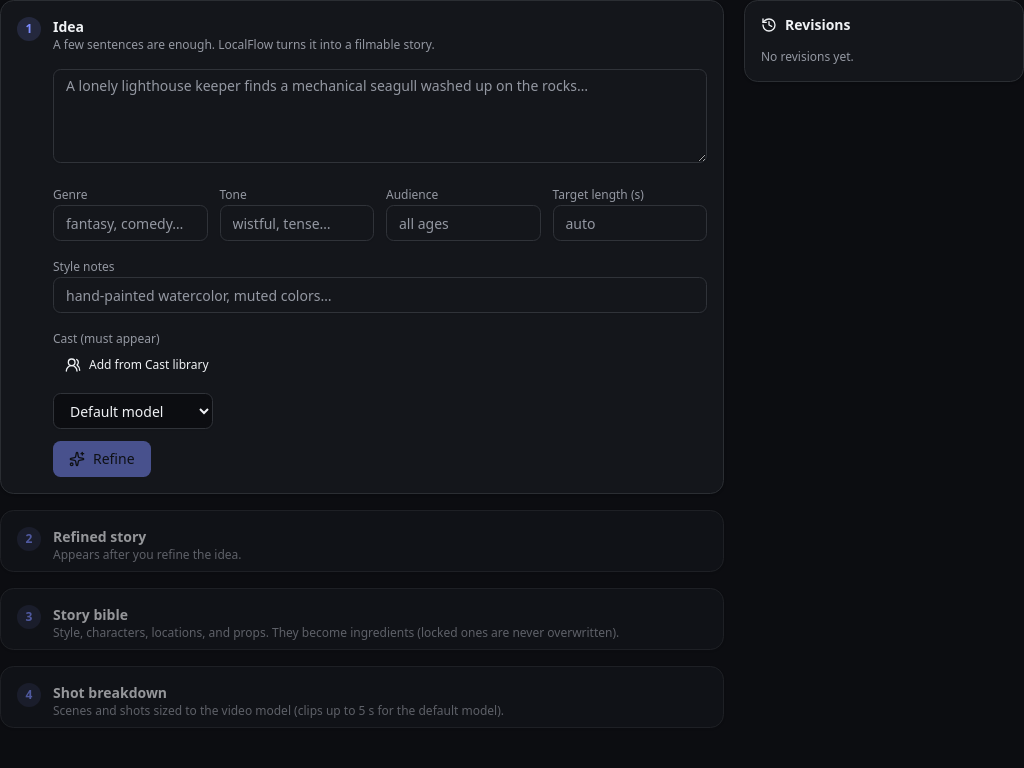
Test: Story tab refines the idea with the options
The width and height of the screenshot is (1024, 768).
Expected: the button with test id "run-refine" is disabled, [53,441,151,477]
Type "A kite that won't come down." into the text box named "Story idea".
click(380, 116); type("A kite that won't come down.")  # box [53,69,707,163]
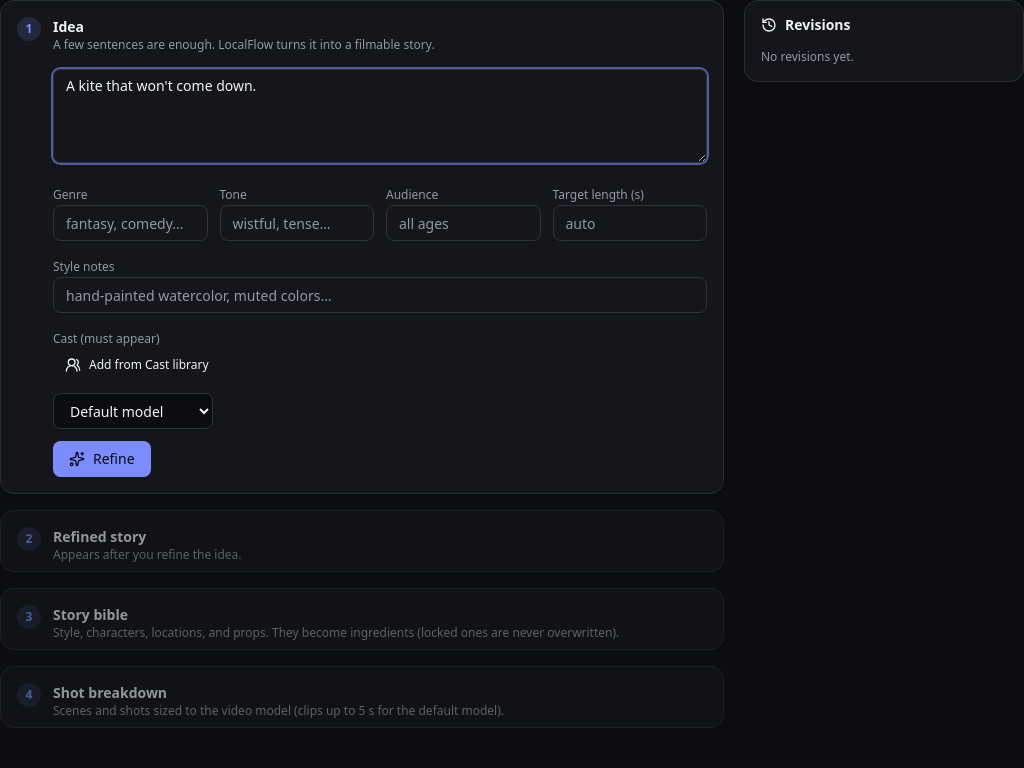
Type "30" into the number field labelled "Target length (s)".
click(630, 223); type("30")  # box [552,205,707,241]
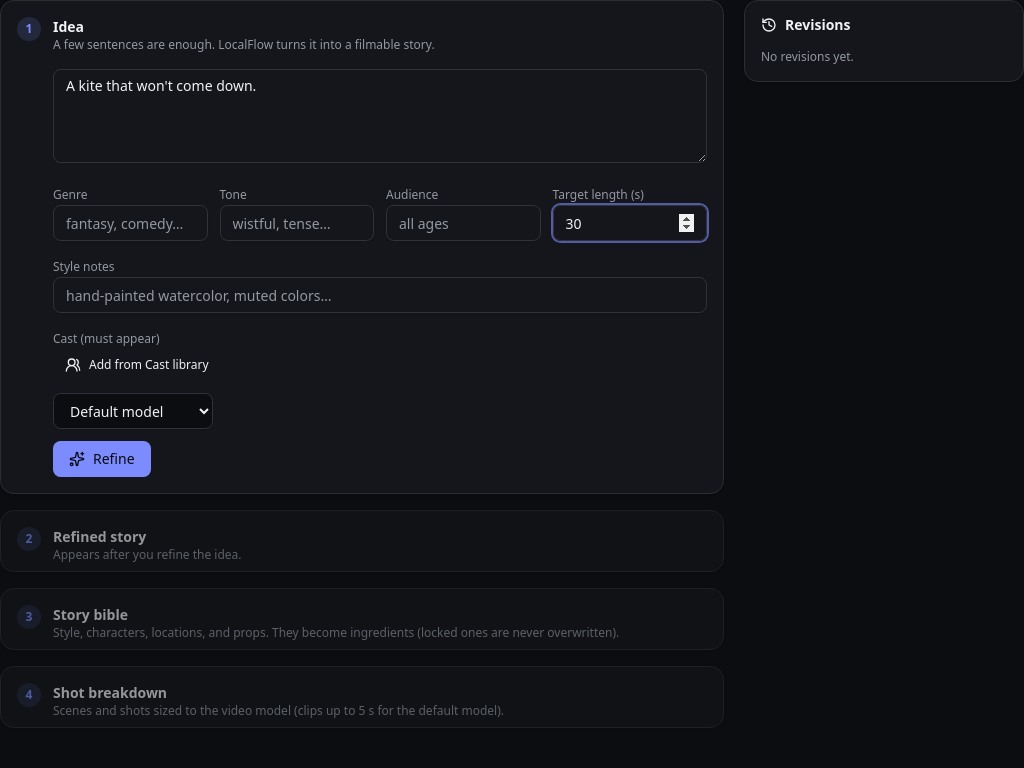
Type "wistful" into the field labelled "Tone".
click(297, 223); type("wistful")  # box [220,205,374,241]
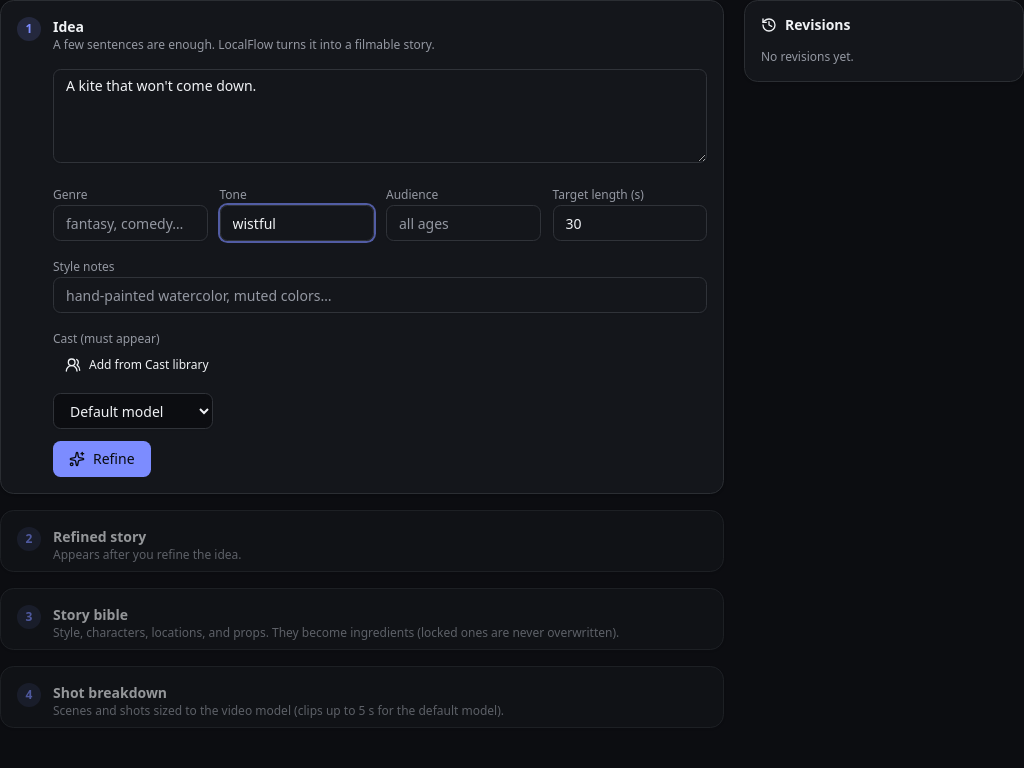
Click the button with test id "run-refine".
click(102, 459)  # box [53,441,151,477]
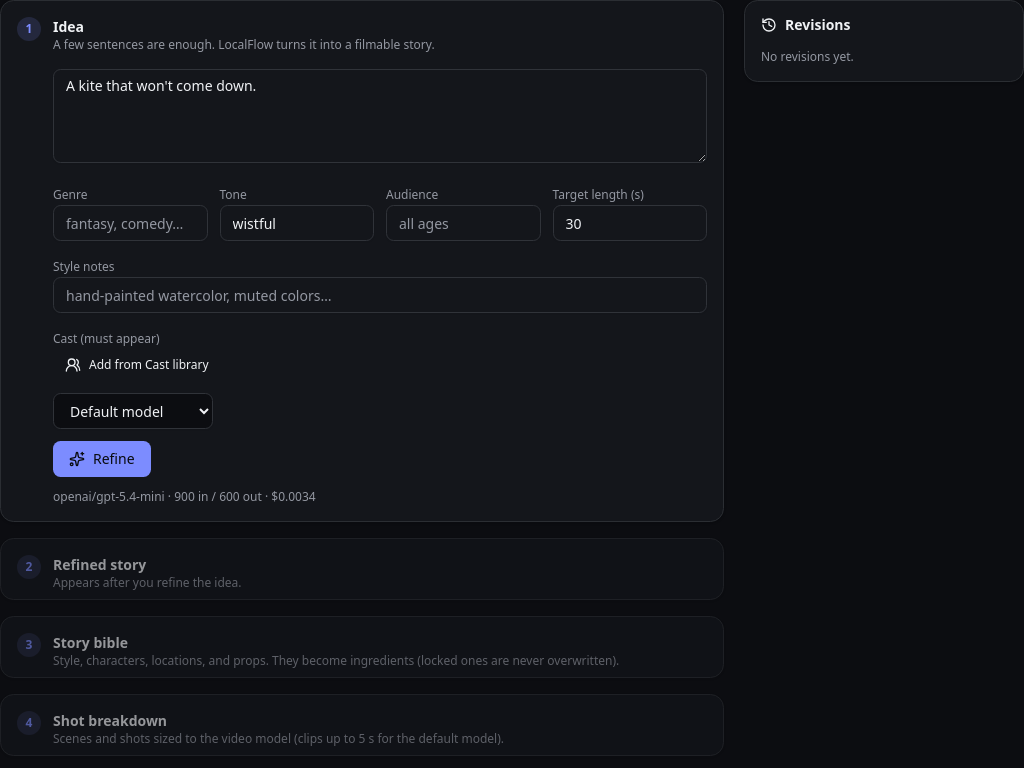
Expected: the text with test id "usage" reads "openai/gpt-5.4-mini · 900 in / 600 out · $0.0034", [53,488,316,505]
